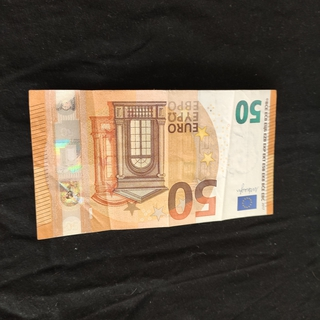50EUROFront: (27, 88, 277, 240)
